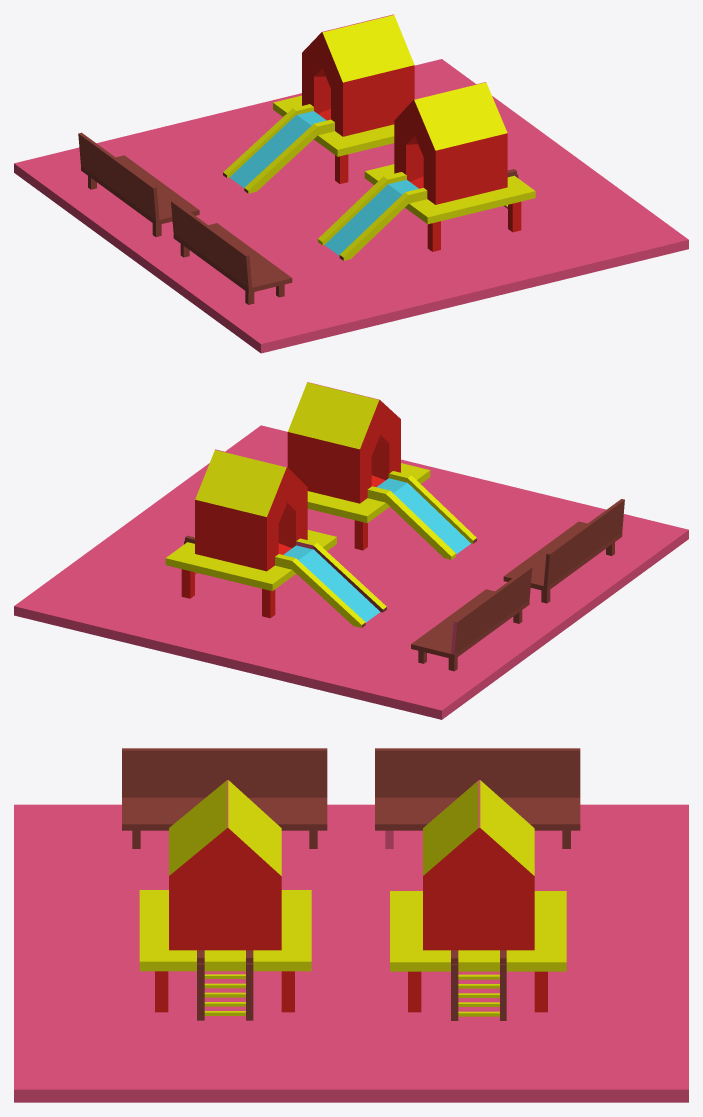
Rendered from Kids Play.fbx.
3 views of the same model, one above another, from view 1: azimuth 30°, elevation 25°; view 2: azimuth 150°, elevation 25°; view 3: azimuth 270°, elevation 25° (orthographic). The views are drawn at different scales.
Visible parts, largest first — view 1: Kids play area; view 2: Kids play area; view 3: Kids play area.
Part boxes in pixels (x1,y1,x2,y2): Kids play area: [14, 14, 688, 353]; Kids play area: [14, 382, 688, 719]; Kids play area: [14, 748, 688, 1102].
Size of the model in its own units: 1000 by 313 by 1000.
